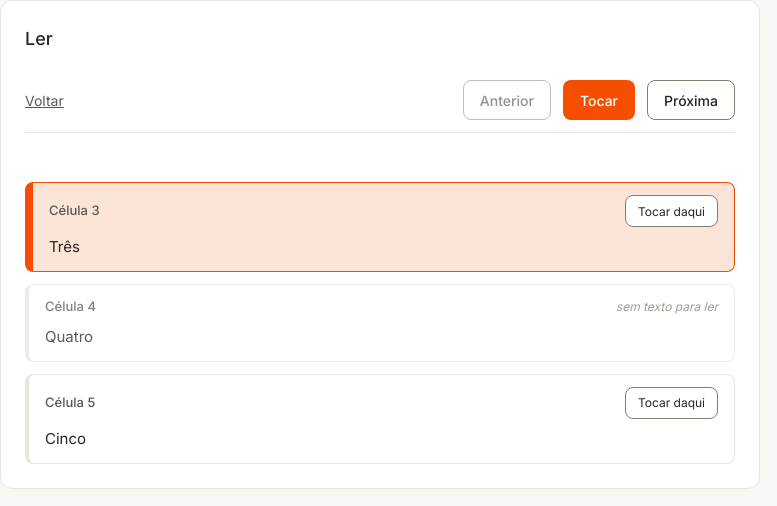
Test: ReaderView: começar a tocar › o primeiro Tocar cria UMA tarefa no modo ler com o intervalo e mostra 'Gerando a primeira célula…'
Click the button "Tocar": (599, 100) [563,80,635,120]
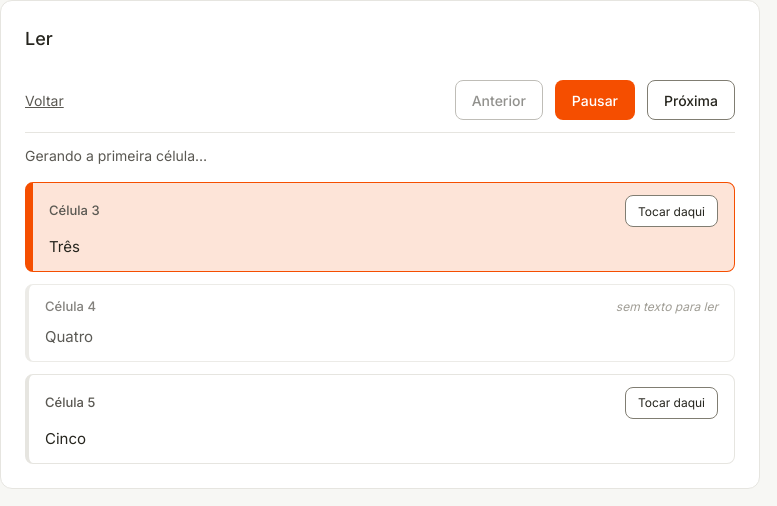
Expected: the message reads "Gerando a primeira célula…", [25,147,207,164]
Expected: the button "Pausar" is shown, [555,80,635,120]
